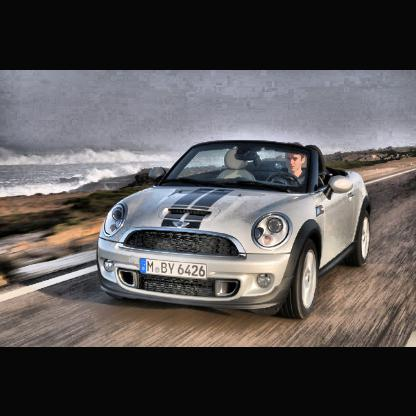MINI Cooper Roadster Convertible 2012: (98, 141, 373, 320)
